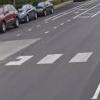Crosswalk: (7, 45, 99, 90)
